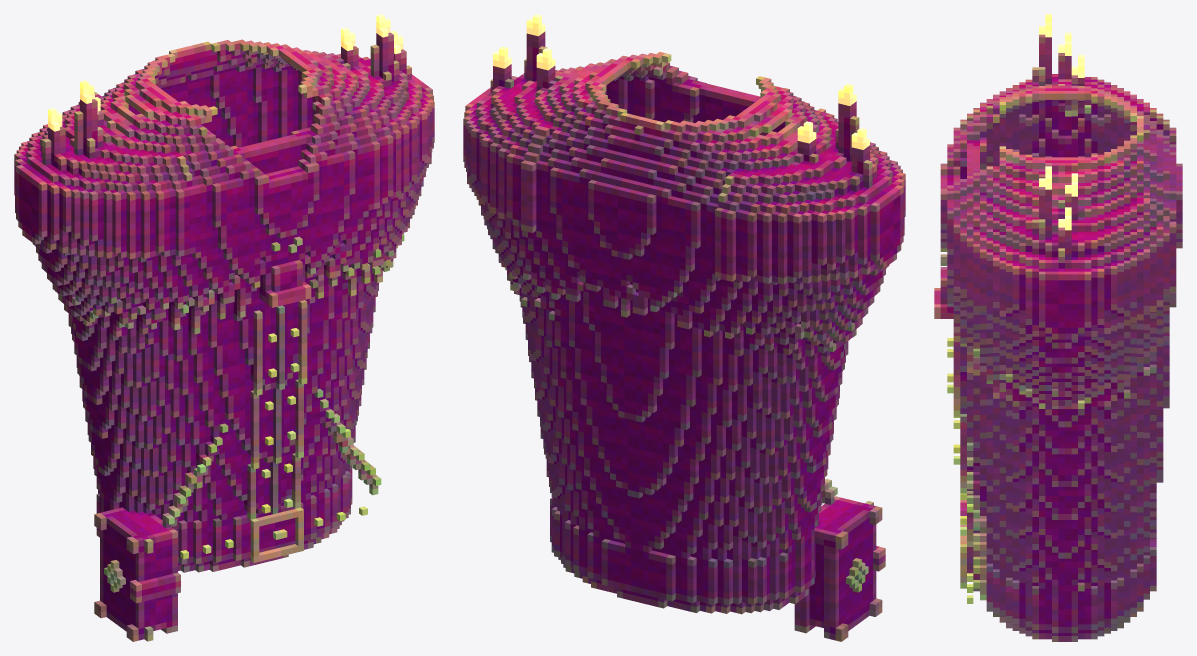
The model's file is armor_set0_chest.glb.
The picture shows the model from 3 angles, left to right: view 1: azimuth 30°, elevation 25°; view 2: azimuth 150°, elevation 25°; view 3: azimuth 270°, elevation 25°; orthographic projection. The views are drawn at different scales.
Parts seen in each view (by area): view 1: Armor_Set0_chest; view 2: Armor_Set0_chest; view 3: Armor_Set0_chest.
Part boxes in pixels (x1,y1,x2,y2): Armor_Set0_chest: [14, 14, 434, 641]; Armor_Set0_chest: [463, 14, 905, 641]; Armor_Set0_chest: [934, 14, 1182, 641].
Size of the model in its own units: 0.49 by 0.637 by 0.266.
